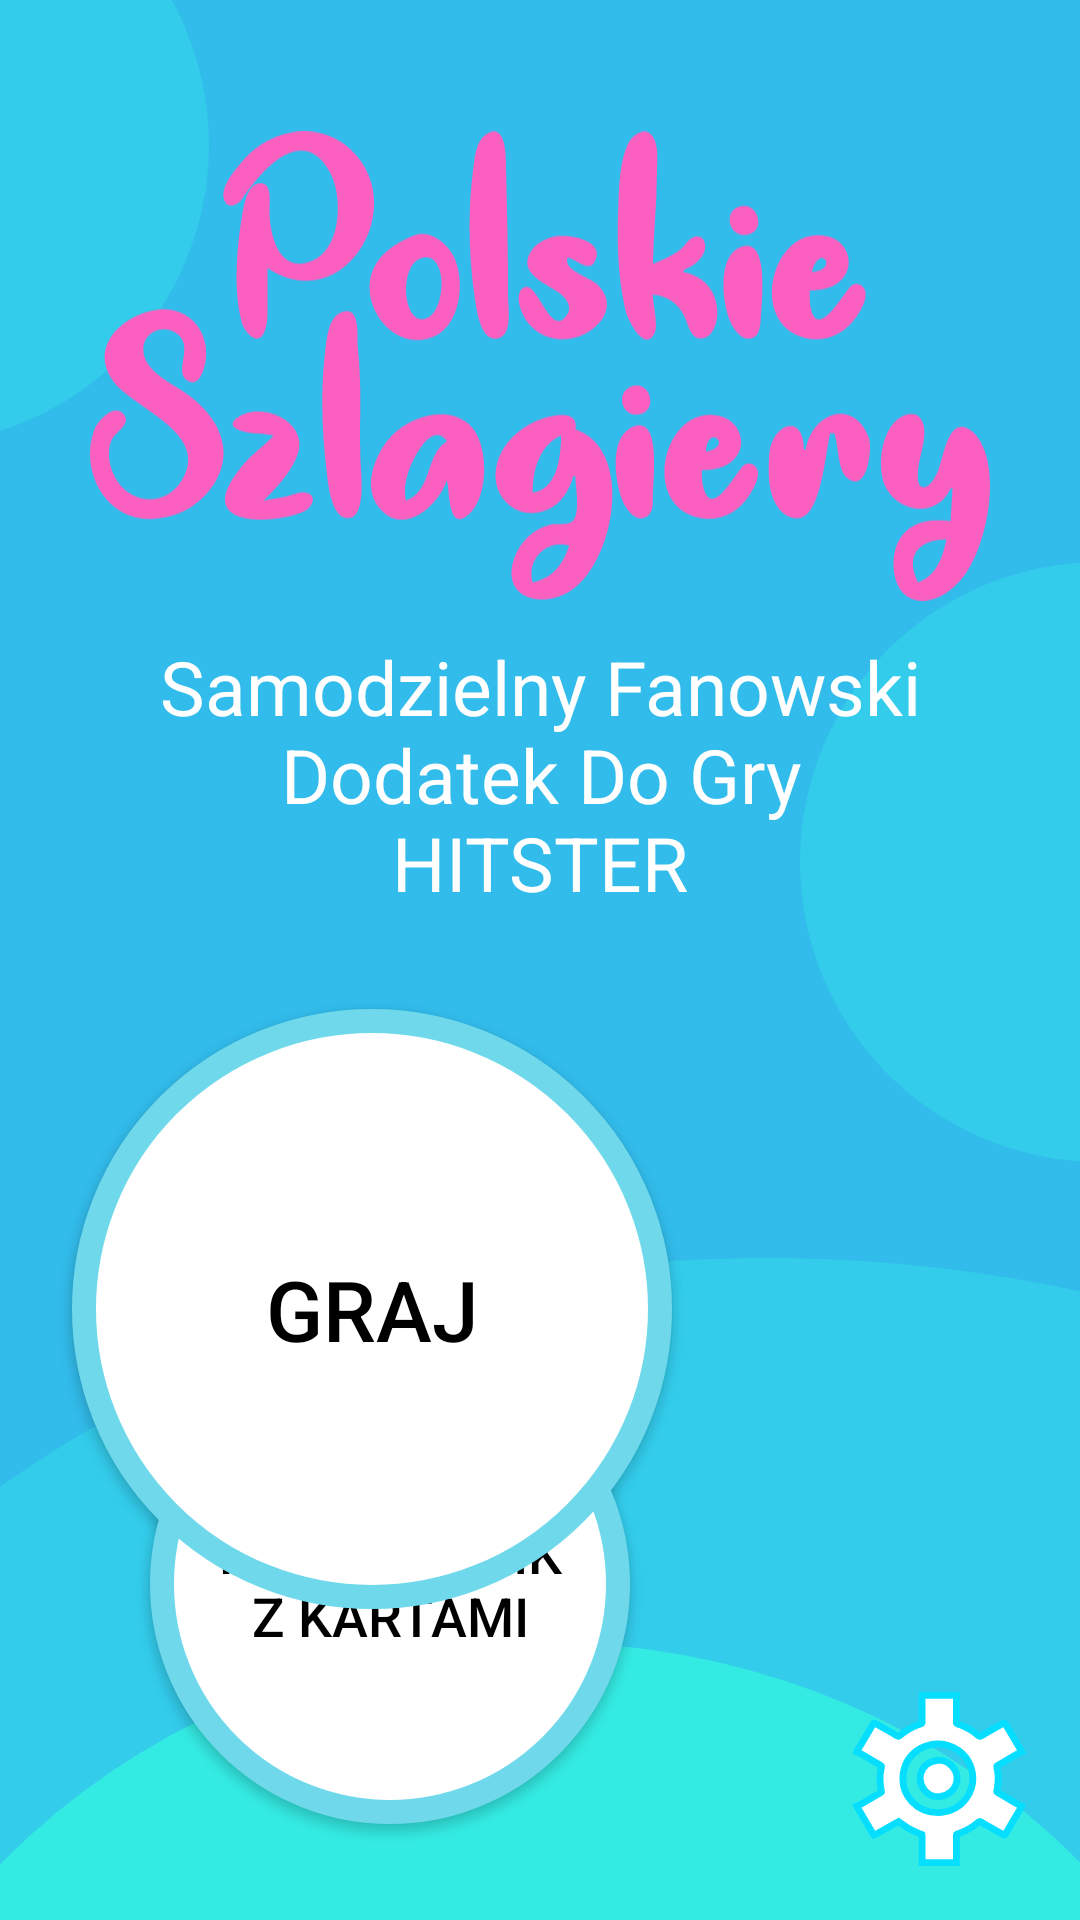

Icons on this 1080px×1920px Android screen, each with the point to tap as (x,y):
settings gear: (939,1779)
